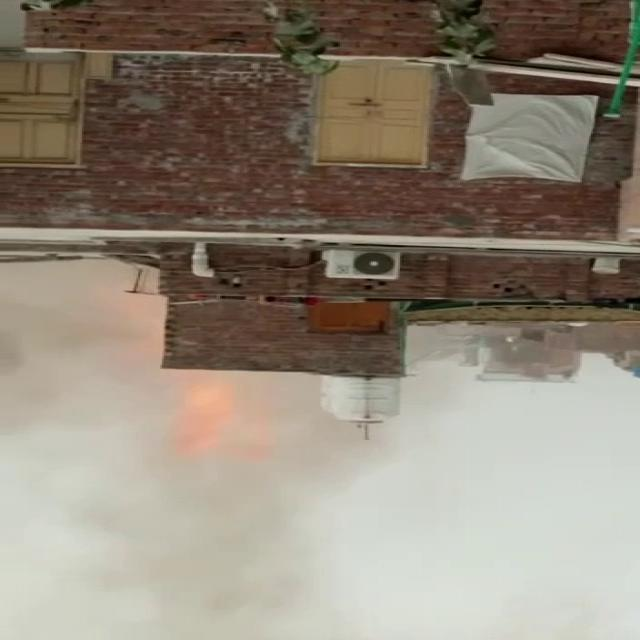Smoke: (0, 265, 356, 547)
